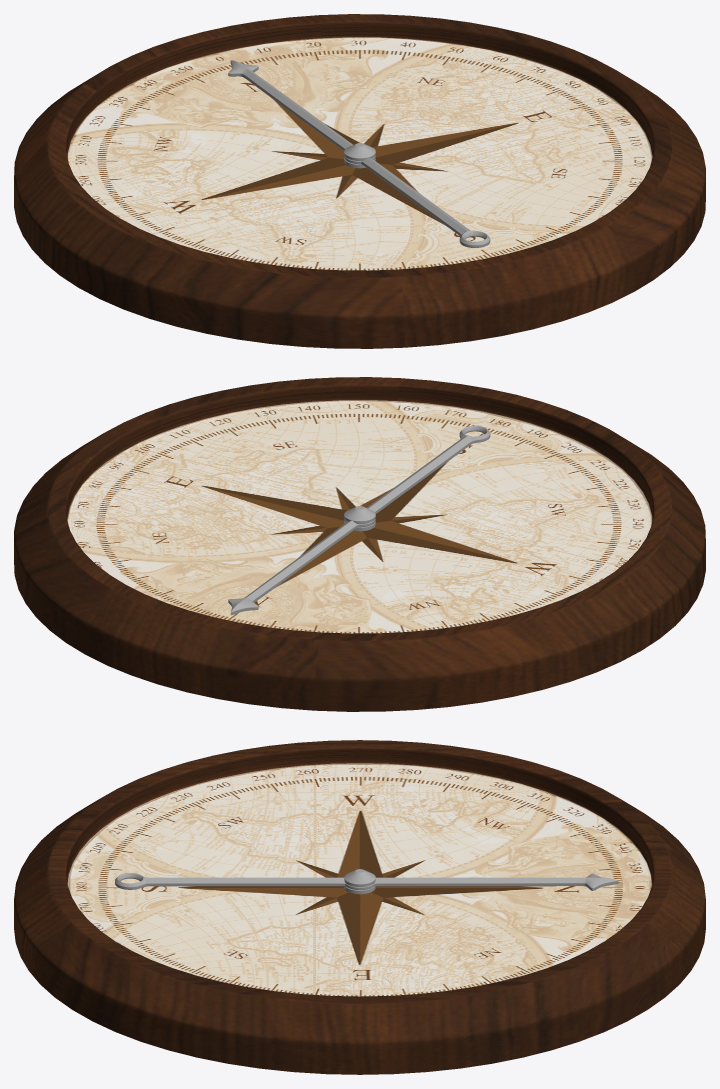
The model's file is CompassSet.fbx.
3 renders of one model, top to bottom at view 1: azimuth 30°, elevation 25°; view 2: azimuth 150°, elevation 25°; view 3: azimuth 270°, elevation 25°, orthographic.
Parts seen in each view (by area): view 1: Compass, CompassHand1, CompassPin1; view 2: Compass, CompassHand1, CompassPin1; view 3: Compass, CompassHand1, CompassPin1.
Part boxes in pixels (x1,y1,x2,y2): Compass: [14, 14, 705, 348]; CompassHand1: [228, 60, 490, 247]; CompassPin1: [344, 143, 375, 168]; Compass: [14, 377, 705, 711]; CompassHand1: [228, 425, 490, 614]; CompassPin1: [344, 506, 375, 531]; Compass: [14, 740, 705, 1074]; CompassHand1: [115, 873, 618, 890]; CompassPin1: [344, 869, 375, 894].
Size of the model in its own units: 19.52 by 1.8 by 19.52.
